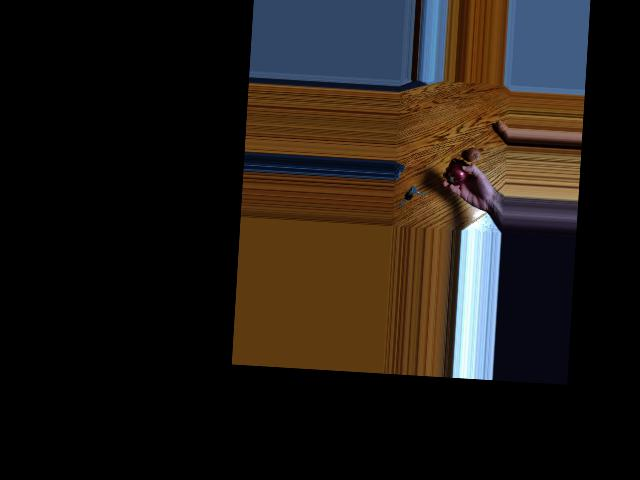onion: (446, 162, 467, 184)
